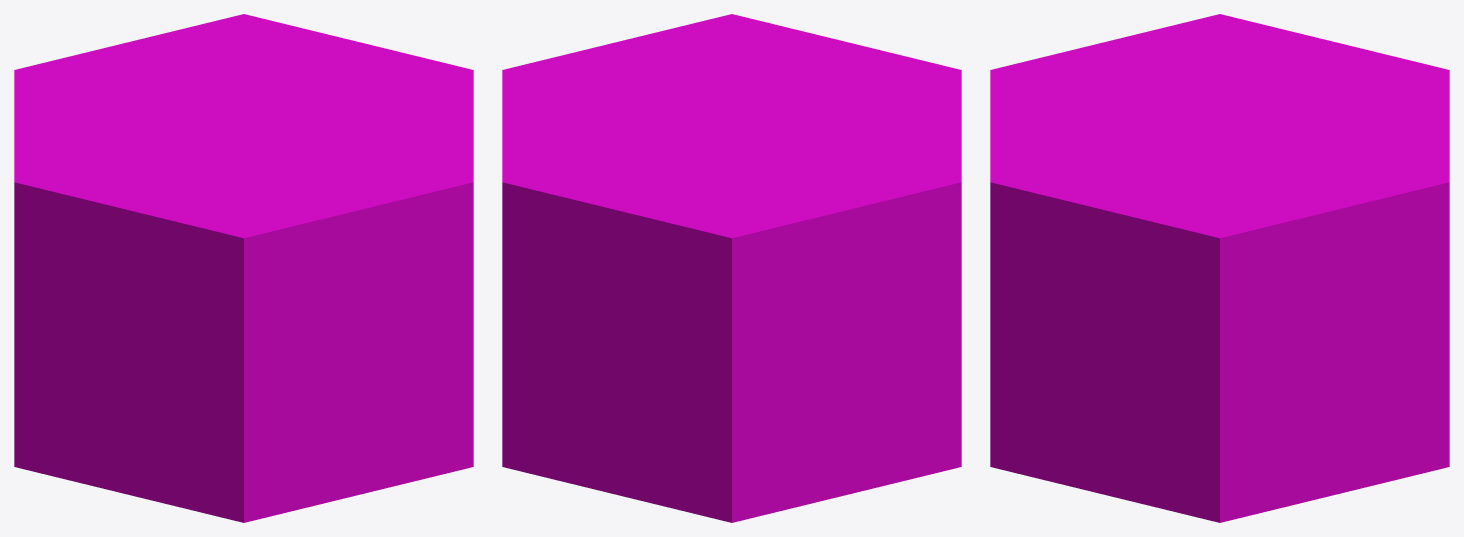
File: GB_Village_House_04.fbx
3 views of the same model, side by side, from view 1: azimuth 30°, elevation 25°; view 2: azimuth 150°, elevation 25°; view 3: azimuth 270°, elevation 25° (orthographic).
Parts seen in each view (by area): view 1: Village_House_04; view 2: Village_House_04; view 3: Village_House_04.
Boxes of the visible parts, x1,y1,x2,y2 form: Village_House_04: [14, 14, 473, 522]; Village_House_04: [502, 14, 961, 522]; Village_House_04: [990, 14, 1449, 522].
Size of the model in its own units: 141 by 83.74 by 123.
